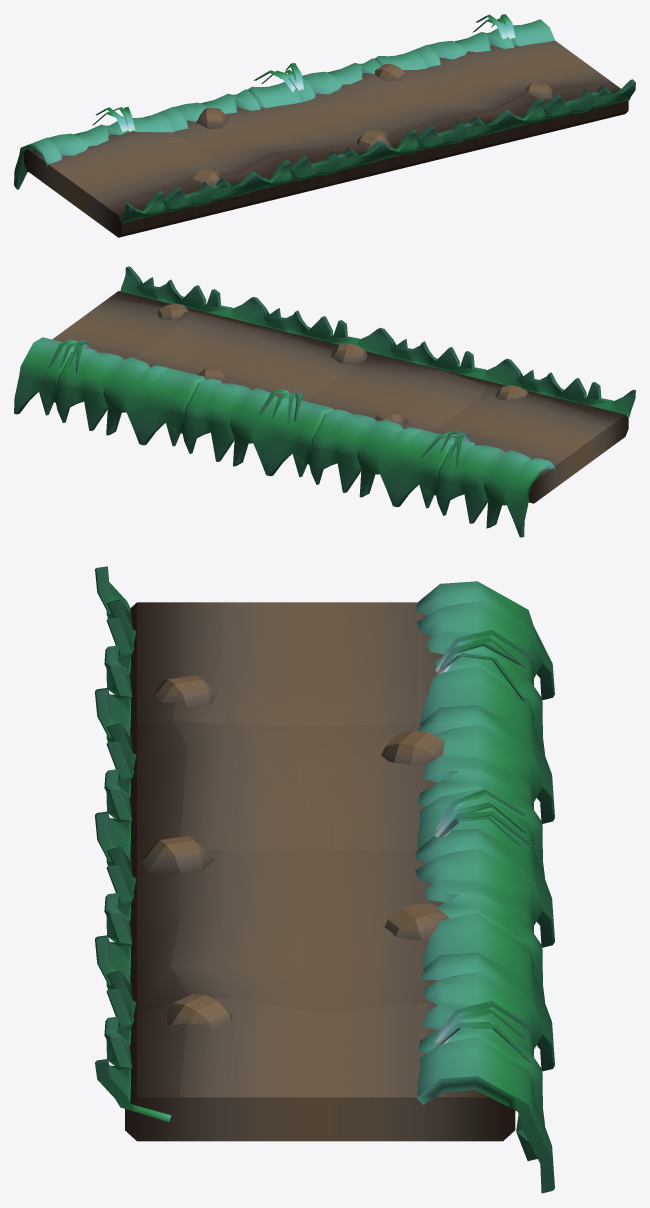
The model's file is SM_Env_groundMid_01.fbx.
The picture shows the model from 3 angles, top to bottom: view 1: azimuth 30°, elevation 25°; view 2: azimuth 150°, elevation 25°; view 3: azimuth 270°, elevation 25°; orthographic projection. The views are drawn at different scales.
Visible parts, largest first — view 1: SM_Env_GroundMid_01; view 2: SM_Env_GroundMid_01; view 3: SM_Env_GroundMid_01.
Part boxes in pixels (x1,y1,x2,y2): SM_Env_GroundMid_01: [14, 14, 635, 237]; SM_Env_GroundMid_01: [14, 266, 635, 537]; SM_Env_GroundMid_01: [95, 566, 554, 1193].
Size of what is drawn, in the model's own units: 1201 by 169 by 471.
